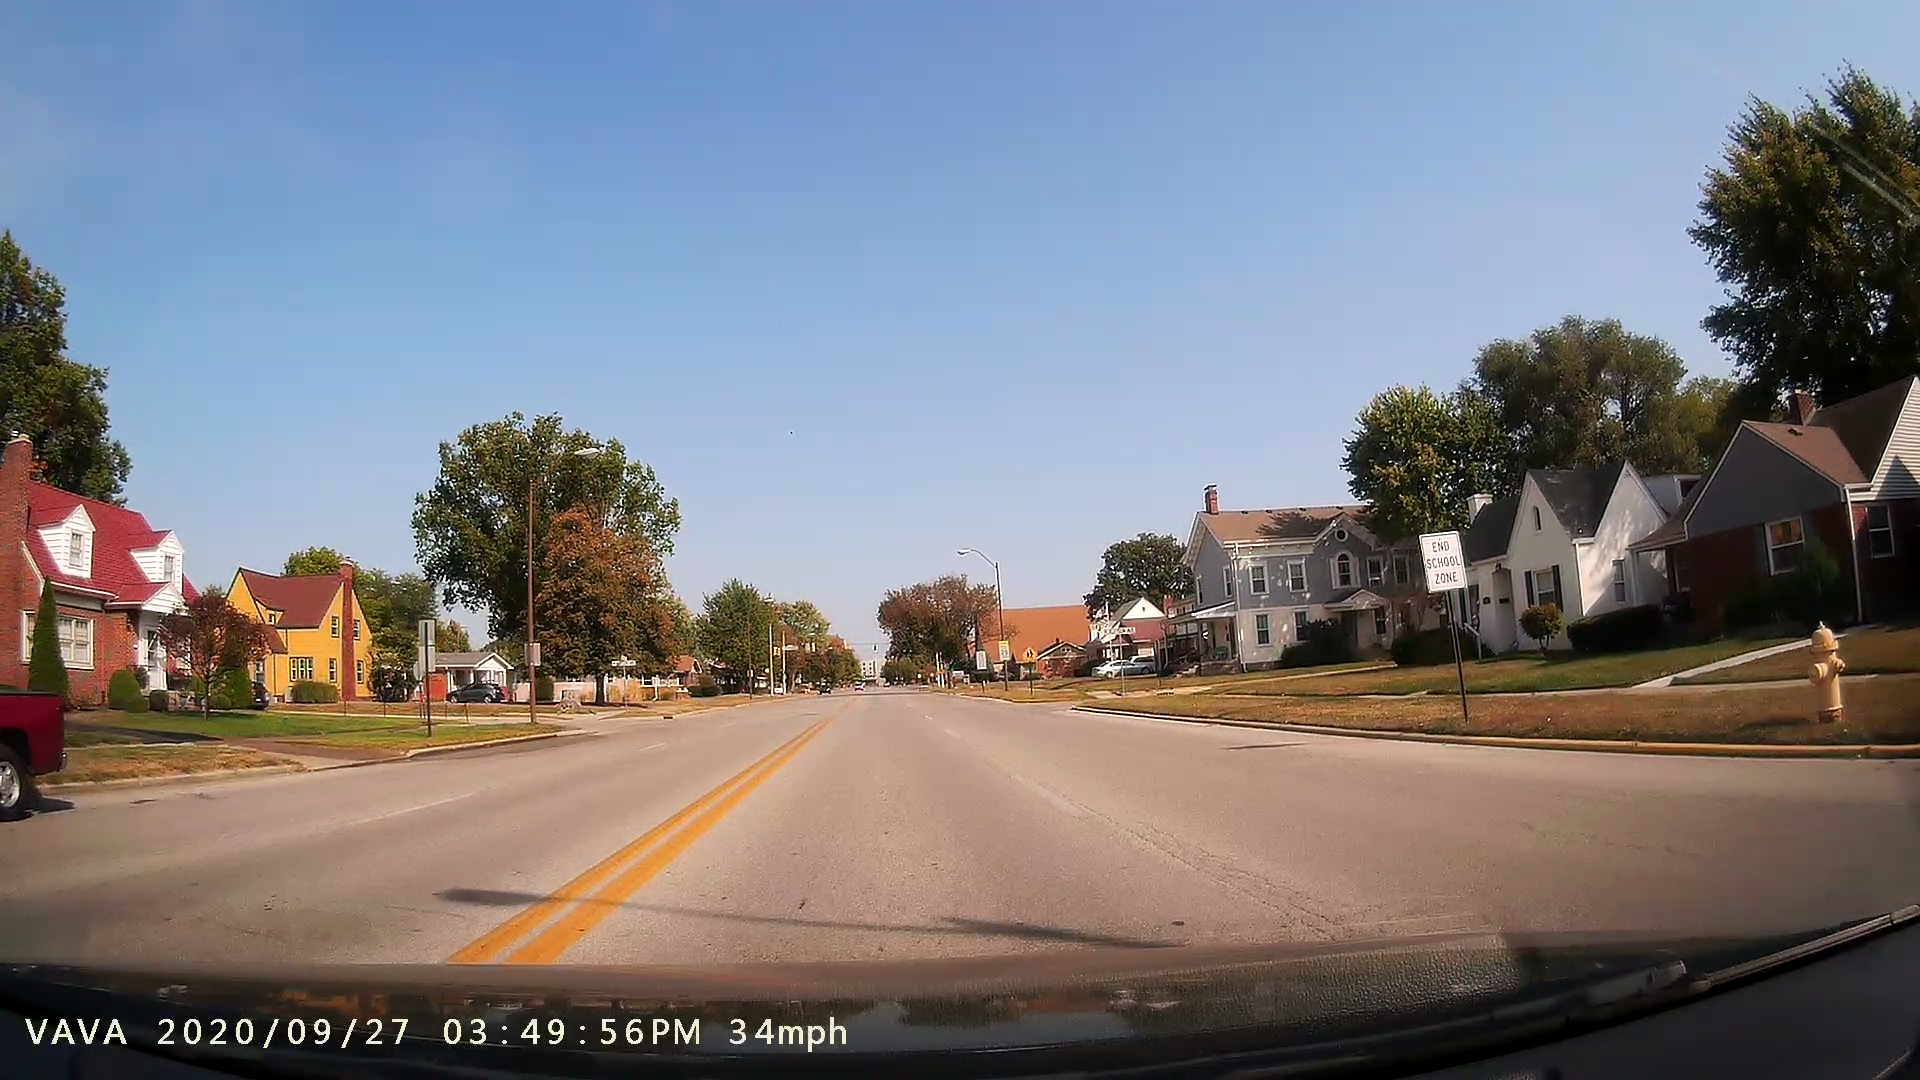fire_hydrant: (1779, 607, 1857, 741)
